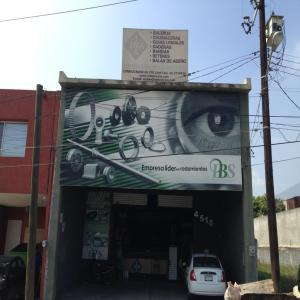Vehicle-registration-plate: (204, 275, 214, 282)
